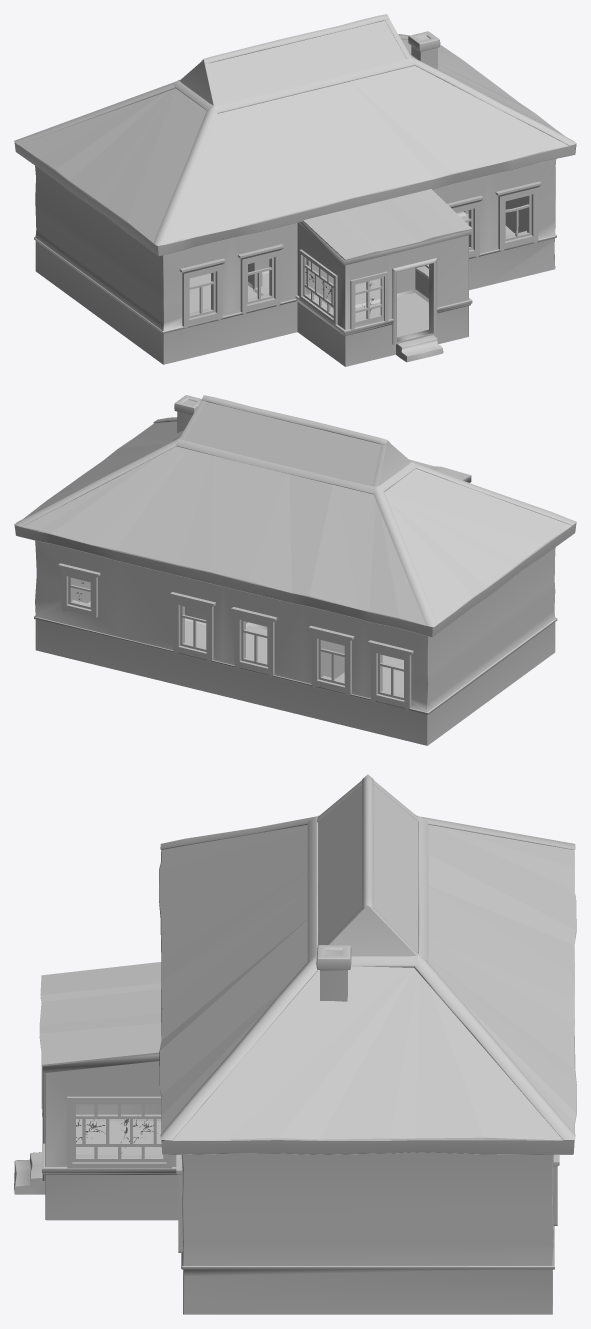
The model's file is House.fbx.
The picture shows the model from 3 angles, top to bottom: view 1: azimuth 30°, elevation 25°; view 2: azimuth 150°, elevation 25°; view 3: azimuth 270°, elevation 25°; orthographic projection. The views are drawn at different scales.
Parts seen in each view (by area): view 1: q9:Mesh1, mainHouse01, q10:Mesh, Windows, windowsCeiling, hallway, Room05, door_frames; view 2: q9:Mesh1, mainHouse01, q10:Mesh, Windows, Window, Room08; view 3: q9:Mesh1, mainHouse01, q10:Mesh, windowsCeiling, hallway.
Part boxes in pixels (x1,y1,x2,y2): q9:Mesh1: [18, 20, 569, 260]; mainHouse01: [34, 159, 556, 366]; q10:Mesh: [14, 14, 576, 362]; Windows: [179, 181, 541, 327]; windowsCeiling: [299, 249, 428, 329]; hallway: [306, 258, 428, 308]; Room05: [505, 196, 526, 232]; door_frames: [252, 210, 468, 307]; q9:Mesh1: [21, 395, 572, 625]; mainHouse01: [34, 540, 557, 745]; q10:Mesh: [14, 395, 576, 694]; Windows: [170, 592, 413, 709]; Window: [58, 563, 100, 619]; Room08: [323, 640, 344, 678]; q9:Mesh1: [39, 784, 576, 1140]; mainHouse01: [43, 1061, 554, 1314]; q10:Mesh: [14, 774, 575, 1194]; windowsCeiling: [41, 1066, 171, 1168]; hallway: [76, 1104, 161, 1114].
Size of the model in its own units: 1482 by 791 by 1191.
